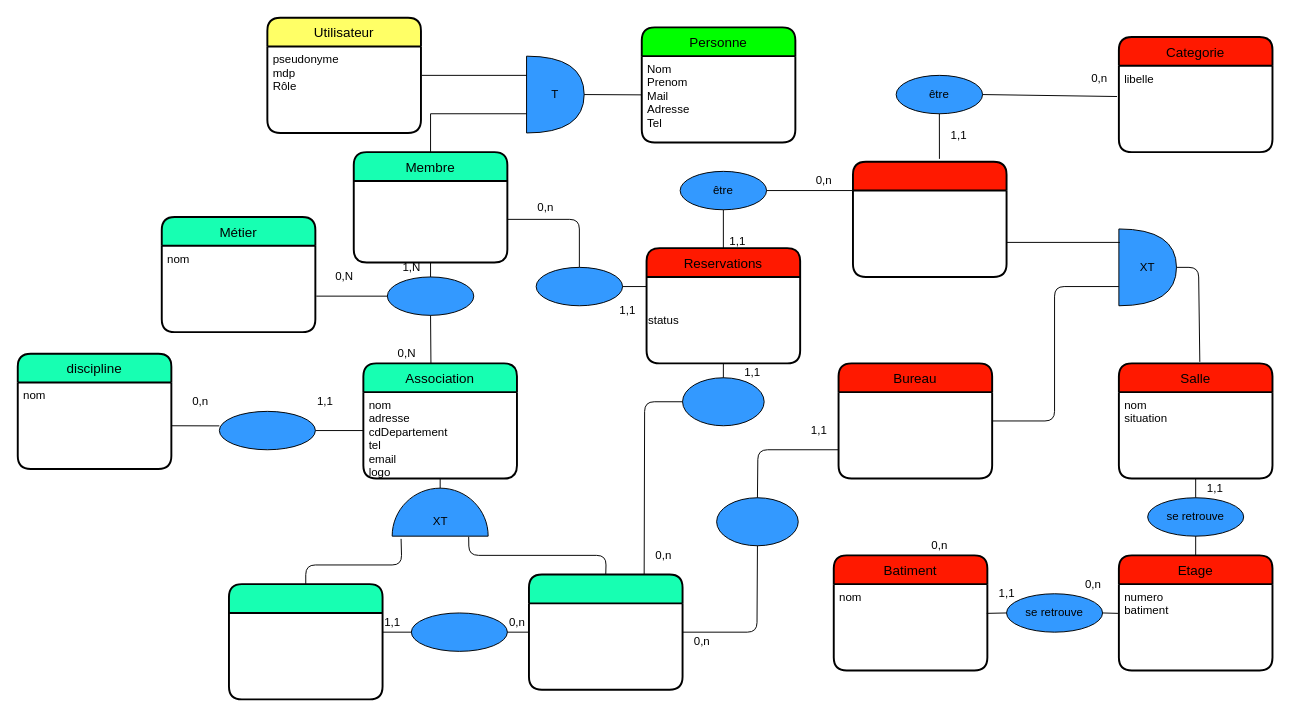
This 1289x716 diagram has some shape labels left out. The centre of each missing label's shape, as x and y in pixels:
"avoir" belongs at (266,430).
"Comité" belongs at (305,641).
"faire des" belongs at (723,401).
"Ligue" belongs at (605,631).
"occuper" belongs at (757,521).
"reserver" belongs at (579,286).
"SalleReserv" belongs at (929,218).
"Travail pour" belongs at (458,631).
"Travailler" belongs at (430,295).
